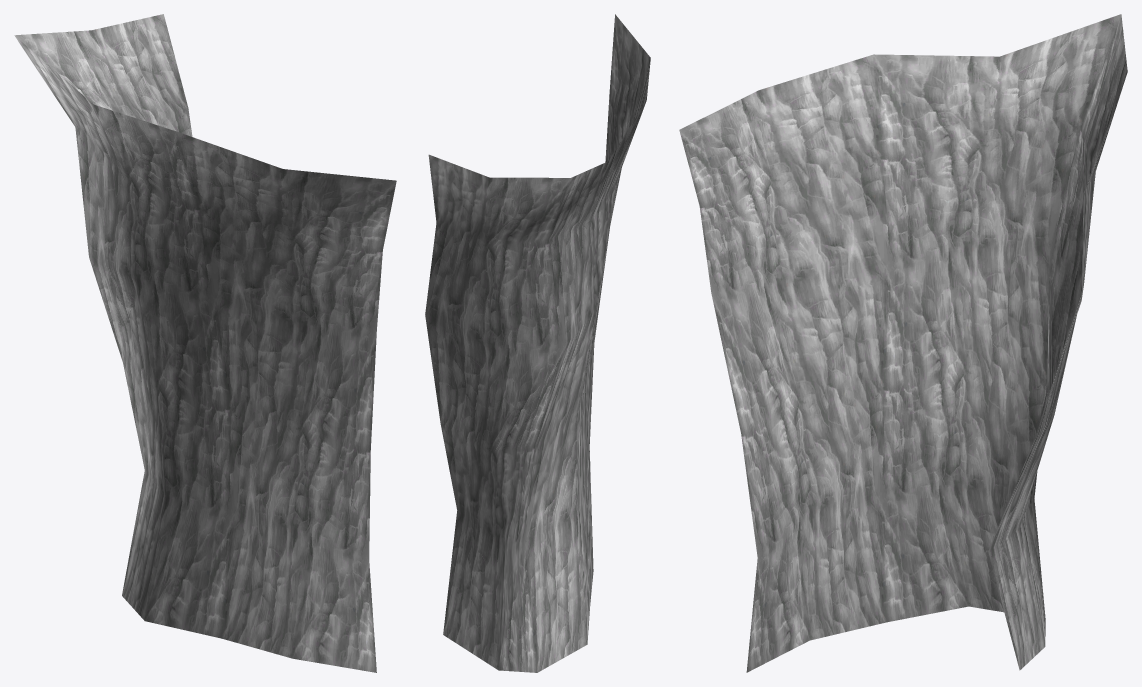
File: SWORDLIGHT20_PS-AREA03_65.fbx
3 views of the same model, side by side, from view 1: azimuth 30°, elevation 25°; view 2: azimuth 150°, elevation 25°; view 3: azimuth 270°, elevation 25° (orthographic). The views are drawn at different scales.
Parts seen in each view (by area): view 1: SWORDLIGHT20_PS-AREA03_65; view 2: SWORDLIGHT20_PS-AREA03_65; view 3: SWORDLIGHT20_PS-AREA03_65.
Boxes of the visible parts, left/top/right/bottom form: SWORDLIGHT20_PS-AREA03_65: left=14, top=14, right=396, bottom=672; SWORDLIGHT20_PS-AREA03_65: left=425, top=14, right=650, bottom=672; SWORDLIGHT20_PS-AREA03_65: left=679, top=14, right=1127, bottom=672.
Size of the model in its own units: 72840 by 214310 by 150996.
Materials: 1 (1 with a texture image).
